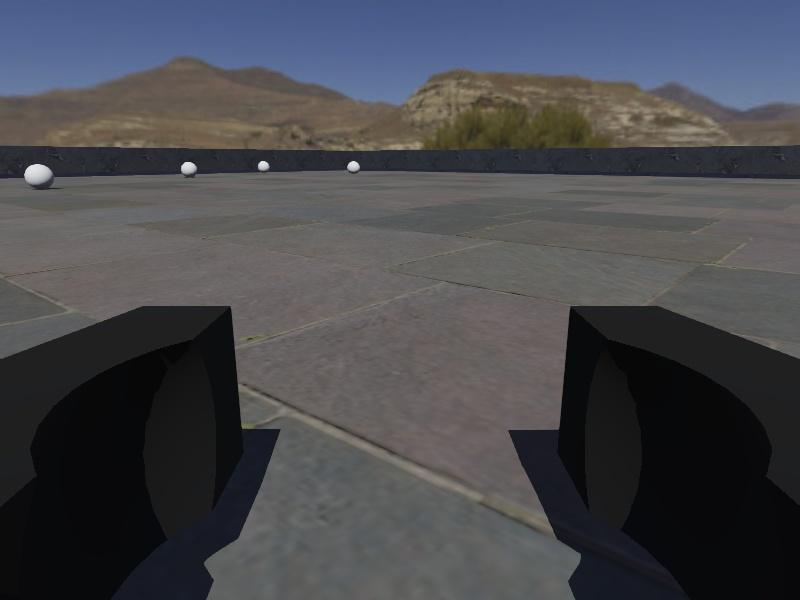white ball: (24, 162, 55, 190), (181, 160, 198, 178), (256, 159, 271, 173), (346, 160, 362, 173)
